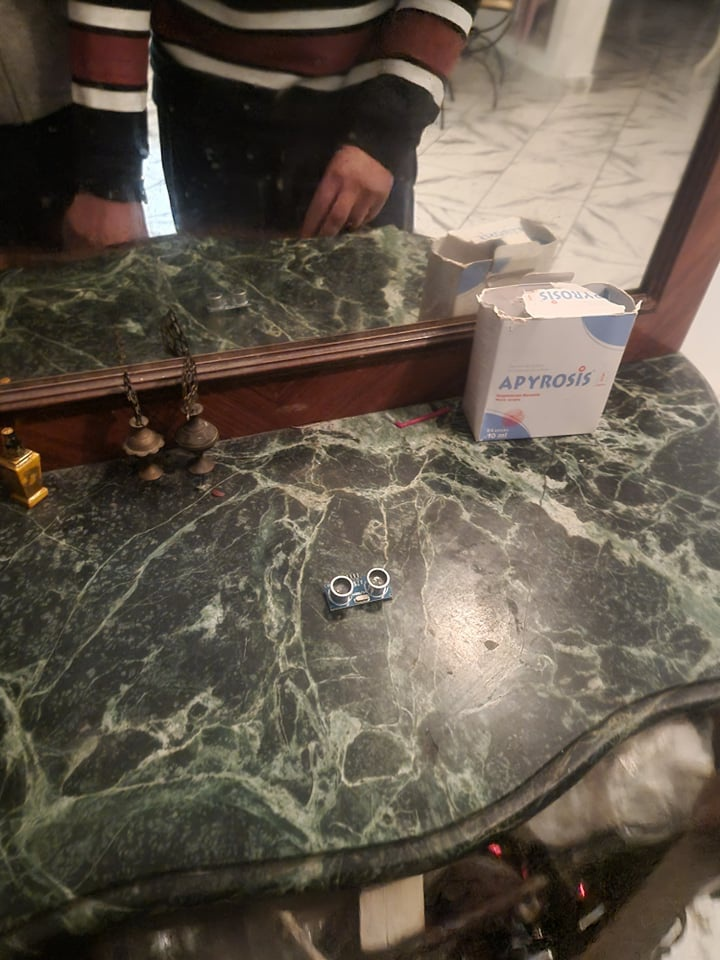SENSOR: (324, 565, 394, 613)
